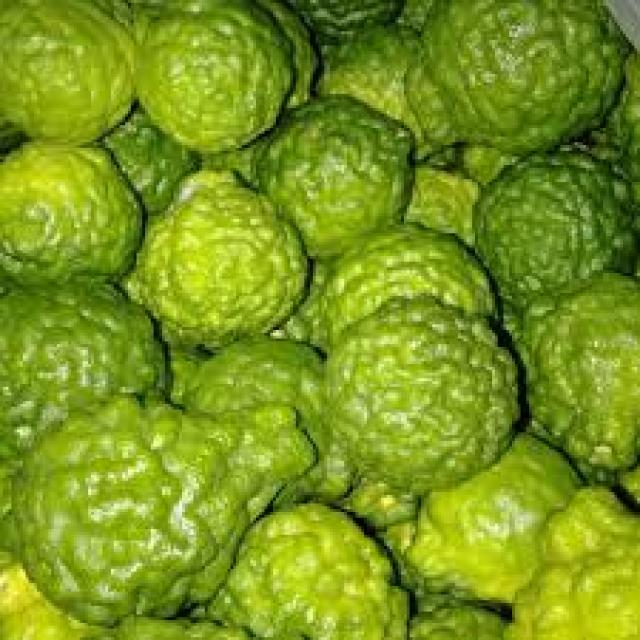Chuc: (19, 405, 306, 623), (318, 293, 520, 495), (4, 282, 184, 481), (401, 0, 625, 156), (122, 165, 310, 347), (430, 427, 586, 599), (507, 292, 640, 486), (131, 0, 293, 154), (256, 93, 409, 248), (197, 346, 354, 496), (239, 507, 406, 640), (458, 165, 640, 287), (10, 130, 139, 292), (303, 230, 502, 334), (0, 0, 137, 145), (498, 492, 640, 629), (322, 30, 458, 172), (98, 106, 201, 209)
